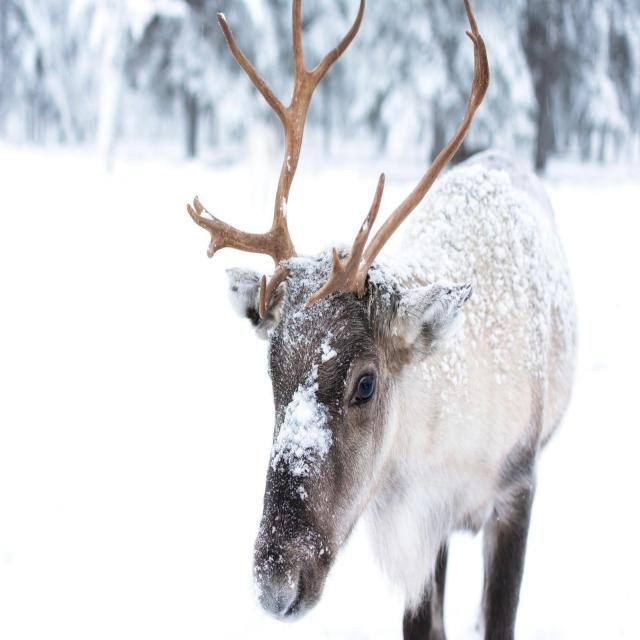reindeer: (188, 0, 576, 639)
